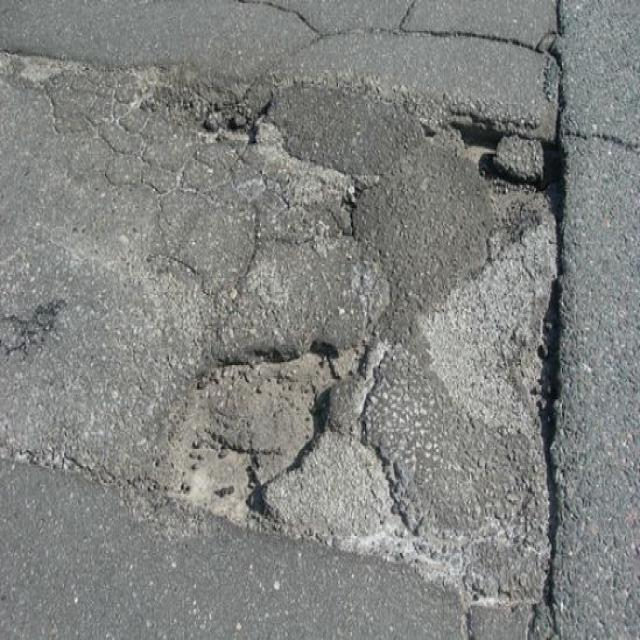pothole: (152, 332, 354, 528), (413, 216, 571, 436), (432, 103, 574, 219)
